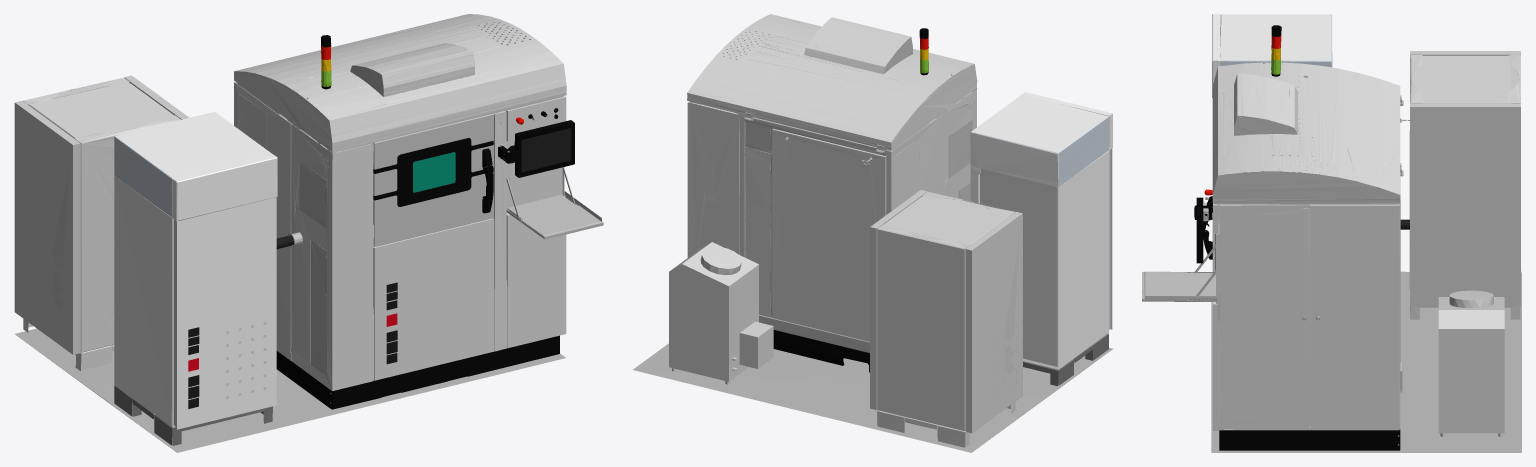
The model's file is pbfSkin.glb.
3 views of the same model, side by side, from view 1: azimuth 30°, elevation 25°; view 2: azimuth 150°, elevation 25°; view 3: azimuth 270°, elevation 25° (orthographic). The views are drawn at different scales.
Visible parts, largest first — view 1: GameObject_mesh_mesh_1.007, GameObject_mesh_mesh_13.004, GameObject_mesh_mesh_13.005, Cube.003, GameObject_mesh_mesh_13.007, GameObject_mesh_mesh_13.006, GameObject_mesh_mesh_10.001, GameObject_mesh_mesh_13.002, Cube.004, GameObject_mesh_mesh_1.006, GameObject_mesh_mesh_1.005, GameObject_mesh_mesh_12.001 (+5 smaller); view 2: GameObject_mesh_mesh_1.007, GameObject_mesh_mesh_13.004, GameObject_mesh_mesh_13.002, GameObject_mesh_mesh_13.001, GameObject_mesh_mesh_13.007, GameObject_mesh_mesh_13.006, Cube.002, GameObject_mesh_mesh_1.005, GameObject_mesh_mesh_1.004, GameObject_mesh_mesh_1.006, Cube, GameObject_mesh_mesh_13.005; view 3: GameObject_mesh_mesh_1.007, GameObject_mesh_mesh_13.004, GameObject_mesh_mesh_13.002, GameObject_mesh_mesh_13.001, GameObject_mesh_mesh_1.005, GameObject_mesh_mesh_13.006, GameObject_mesh_mesh_1.006, GameObject_mesh_mesh_12.001, Cube, Cube.004, GameObject_mesh_mesh_14.002.
Boxes of the visible parts, bbox=[...] form: GameObject_mesh_mesh_1.007: bbox=[234, 14, 566, 390]; GameObject_mesh_mesh_13.004: bbox=[14, 75, 189, 370]; GameObject_mesh_mesh_13.005: bbox=[173, 197, 276, 429]; Cube.003: bbox=[373, 218, 494, 380]; GameObject_mesh_mesh_13.007: bbox=[114, 176, 272, 445]; GameObject_mesh_mesh_13.006: bbox=[114, 111, 277, 221]; GameObject_mesh_mesh_10.001: bbox=[373, 113, 493, 246]; GameObject_mesh_mesh_13.002: bbox=[15, 328, 565, 452]; Cube.004: bbox=[506, 213, 566, 348]; GameObject_mesh_mesh_1.006: bbox=[276, 108, 559, 409]; GameObject_mesh_mesh_1.005: bbox=[235, 22, 565, 376]; GameObject_mesh_mesh_12.001: bbox=[506, 191, 603, 239]; GameObject_mesh_mesh_1.007: bbox=[687, 14, 977, 341]; GameObject_mesh_mesh_13.004: bbox=[870, 190, 1022, 447]; GameObject_mesh_mesh_13.002: bbox=[633, 343, 1113, 452]; GameObject_mesh_mesh_13.001: bbox=[669, 242, 773, 384]; GameObject_mesh_mesh_13.007: bbox=[970, 150, 1108, 386]; GameObject_mesh_mesh_13.006: bbox=[970, 92, 1112, 187]; Cube.002: bbox=[980, 168, 1058, 366]; GameObject_mesh_mesh_1.005: bbox=[722, 23, 972, 201]; GameObject_mesh_mesh_1.004: bbox=[744, 46, 977, 352]; GameObject_mesh_mesh_1.006: bbox=[773, 74, 922, 372]; Cube: bbox=[690, 36, 969, 316]; GameObject_mesh_mesh_13.005: bbox=[1109, 145, 1112, 329]; GameObject_mesh_mesh_1.007: bbox=[1212, 62, 1400, 430]; GameObject_mesh_mesh_13.004: bbox=[1409, 51, 1521, 319]; GameObject_mesh_mesh_13.002: bbox=[1211, 271, 1521, 452]; GameObject_mesh_mesh_13.001: bbox=[1438, 290, 1504, 436]; GameObject_mesh_mesh_1.005: bbox=[1212, 89, 1400, 203]; GameObject_mesh_mesh_13.006: bbox=[1212, 14, 1332, 97]; GameObject_mesh_mesh_1.006: bbox=[1203, 75, 1400, 450]; GameObject_mesh_mesh_12.001: bbox=[1142, 271, 1217, 301]; Cube: bbox=[1218, 97, 1398, 430]; Cube.004: bbox=[1212, 302, 1218, 430]; GameObject_mesh_mesh_14.002: bbox=[1194, 197, 1207, 263].
Size of the model in its own units: 2.61 by 2.21 by 2.31.
